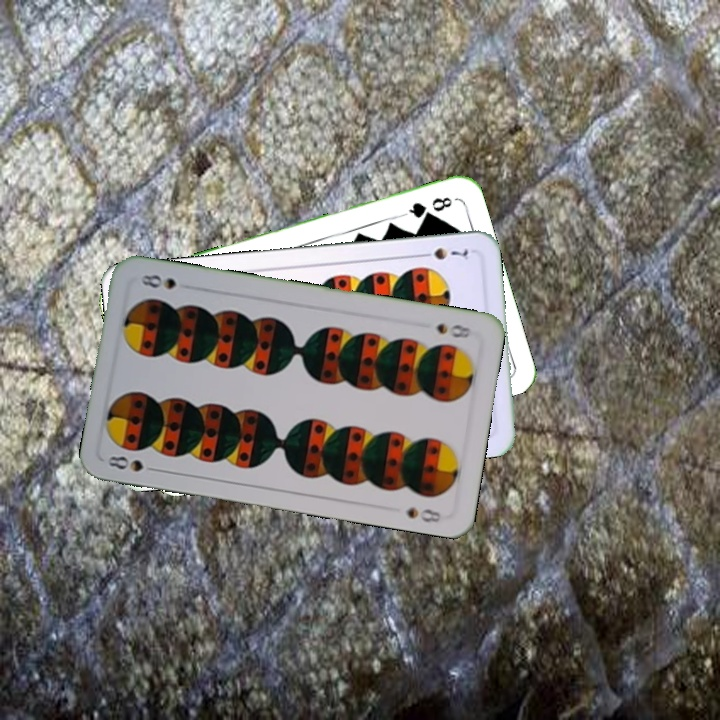G8: (400, 192, 455, 221)
S7: (415, 244, 471, 263)
S8: (103, 452, 162, 475), (432, 319, 479, 341)
